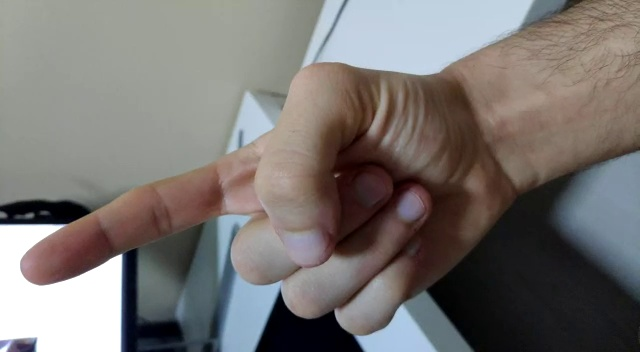One: (8, 22, 555, 341)
